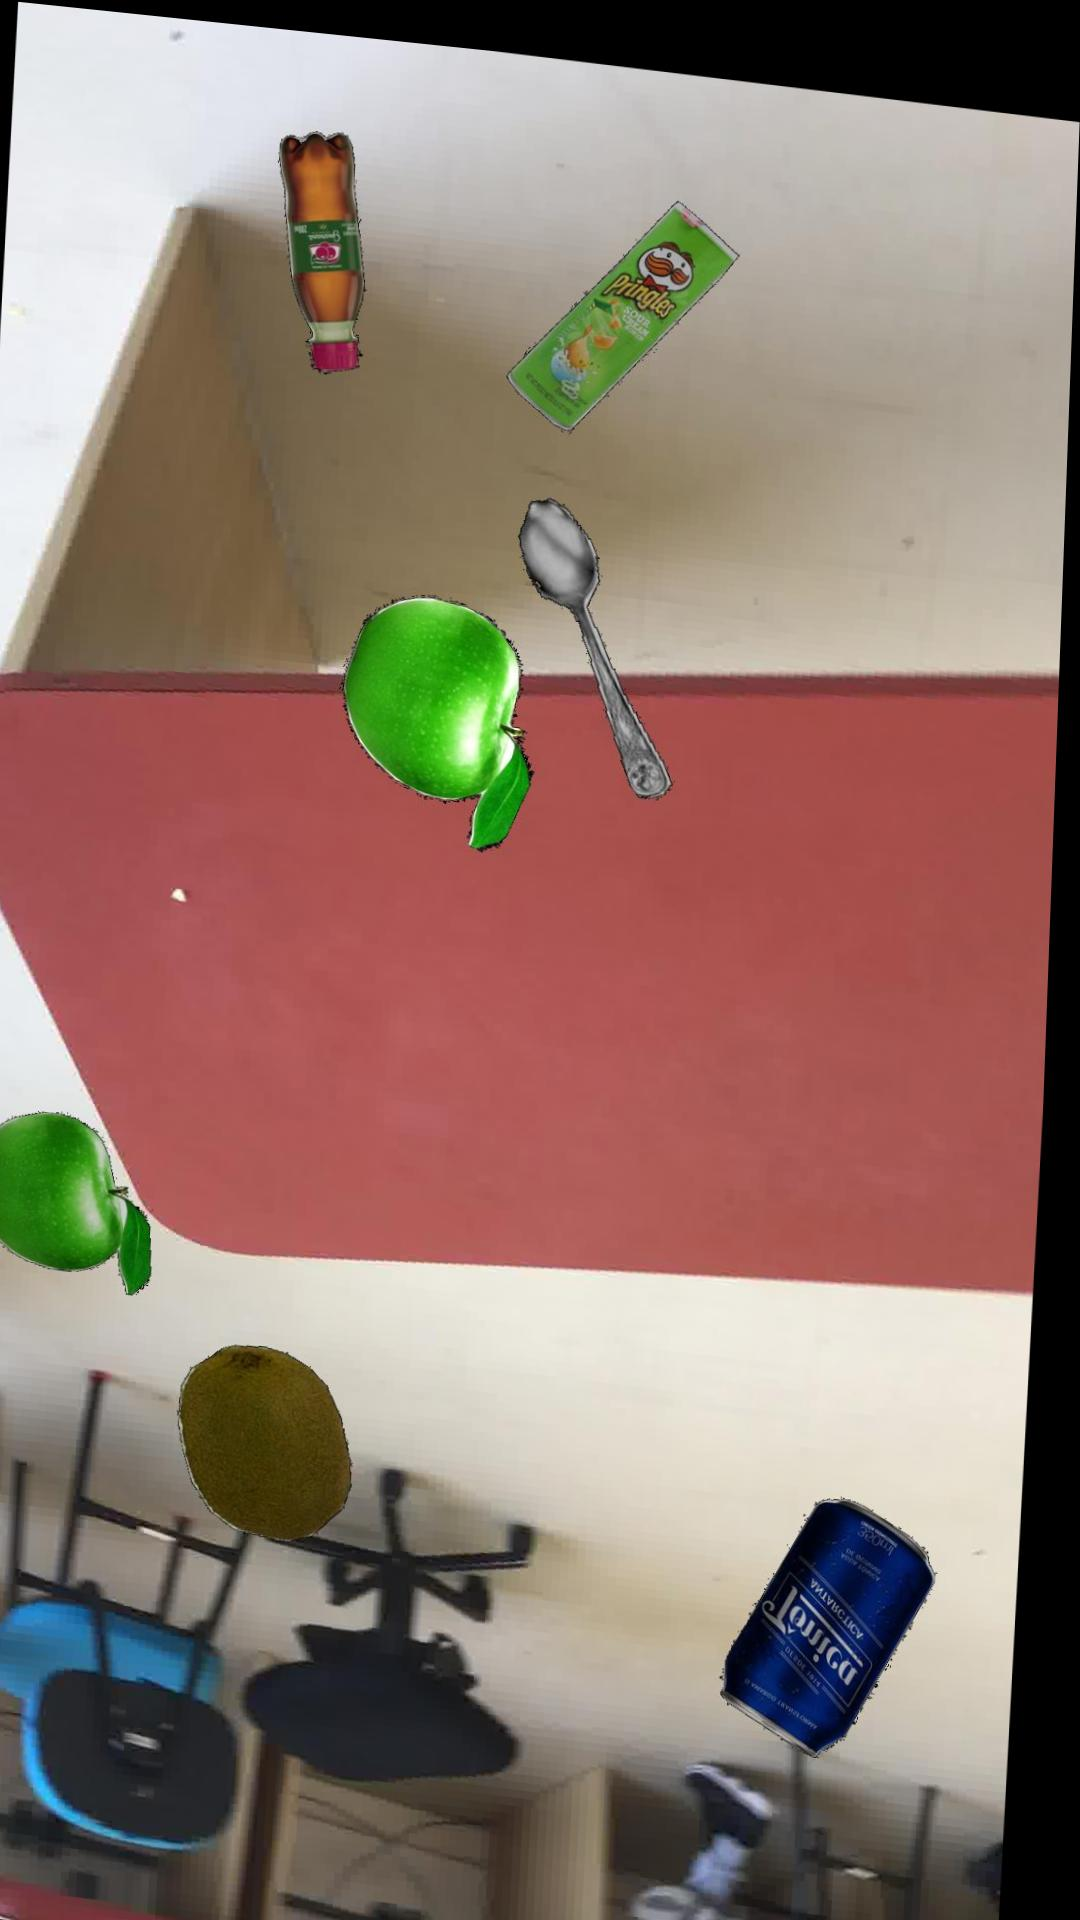green apple: (346, 588, 540, 842), (0, 1110, 161, 1292)
guarana: (279, 125, 368, 366)
kiwi: (189, 1339, 363, 1535)
pringles: (509, 187, 741, 419)
spoon: (522, 486, 678, 785)
tonic: (733, 1479, 947, 1739)
